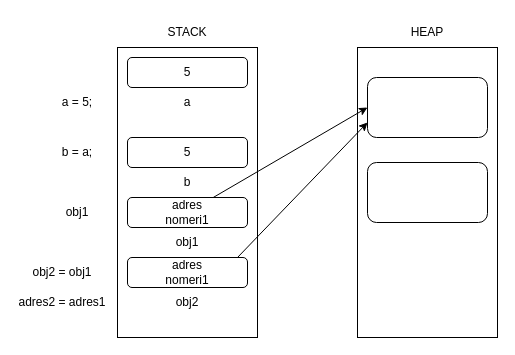
Image size: 515x355. Some labels were removed from this diagram. The box of each missing label's shape, as (x1, y1, x2, y2) in pixels:
obj1 ning ichidagi malumotlar: (366, 76, 488, 138)
obj2 ning ichidagi malumotlar: (366, 162, 488, 222)
